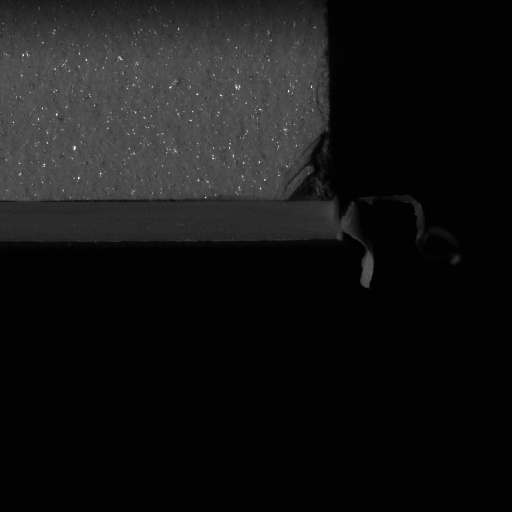bengque: (284, 132, 336, 205)
changdai: (341, 193, 456, 290)
